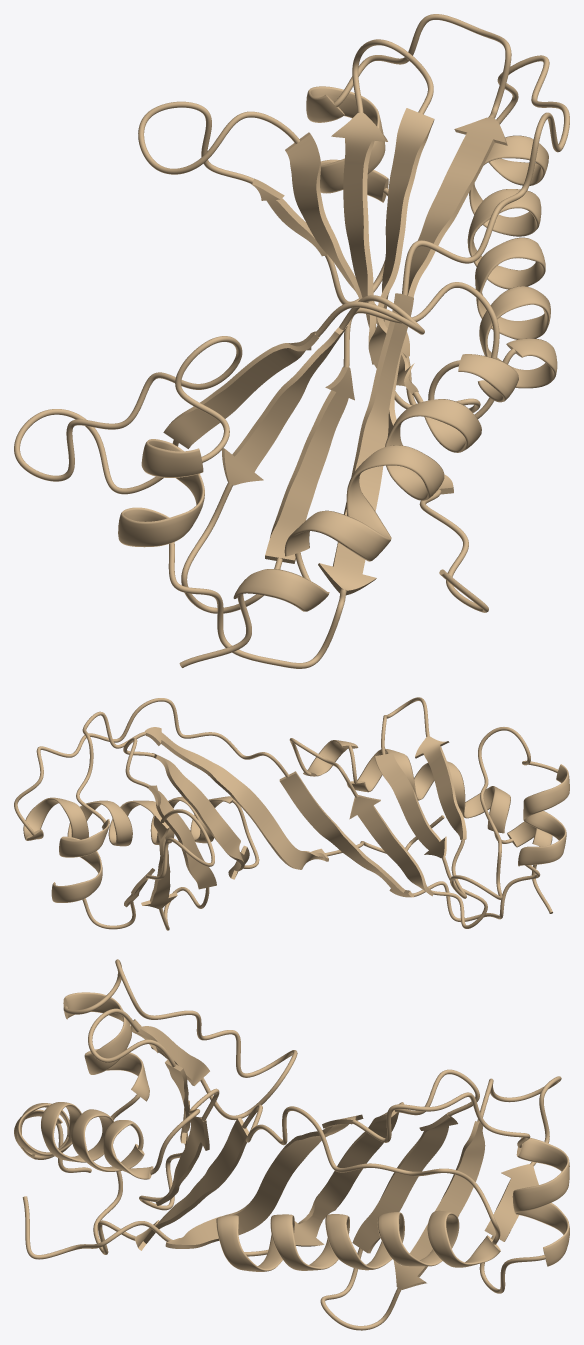
The model's file is 1cdw_unboundREDUCED.glb.
3 renders of one model, top to bottom at view 1: azimuth 30°, elevation 25°; view 2: azimuth 150°, elevation 25°; view 3: azimuth 270°, elevation 25°, orthographic. The views are drawn at different scales.
Parts seen in each view (by area): view 1: ribbons; view 2: ribbons; view 3: ribbons.
Part boxes in pixels (left/top/right/bottom): ribbons: left=14, top=14, right=569, bottom=668; ribbons: left=14, top=697, right=569, bottom=930; ribbons: left=14, top=959, right=569, bottom=1330.
Size of the model in its own units: 49.54 by 28.39 by 48.46.
